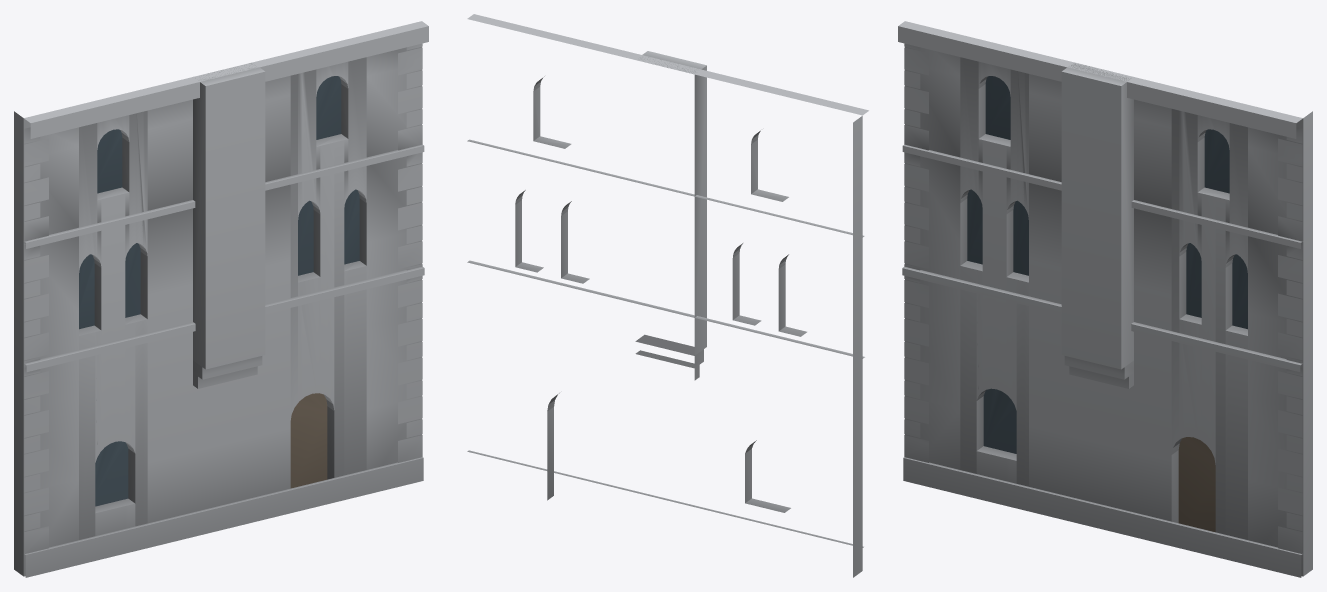
The model's file is sg_house_end.glb.
The picture shows the model from 3 angles, left to right: view 1: azimuth 30°, elevation 25°; view 2: azimuth 150°, elevation 25°; view 3: azimuth 330°, elevation 25°; orthographic projection.
Visible parts, largest first — view 1: sg_house_end_SG_Stone, sg_house_end_SG_Glass, sg_house_end_SG_Joinery; view 2: sg_house_end_SG_Stone; view 3: sg_house_end_SG_Stone, sg_house_end_SG_Glass, sg_house_end_SG_Joinery.
Part boxes in pixels (x1=…): sg_house_end_SG_Stone: x1=14, y1=21, x2=428, y2=577; sg_house_end_SG_Glass: x1=79, y1=76, x2=359, y2=506; sg_house_end_SG_Joinery: x1=290, y1=393, x2=327, y2=488; sg_house_end_SG_Stone: x1=467, y1=14, x2=868, y2=577; sg_house_end_SG_Stone: x1=898, y1=21, x2=1312, y2=577; sg_house_end_SG_Glass: x1=967, y1=76, x2=1247, y2=453; sg_house_end_SG_Joinery: x1=1178, y1=437, x2=1215, y2=532.
Bounding box in the file's own units: 10 × 11 × 0.97.
